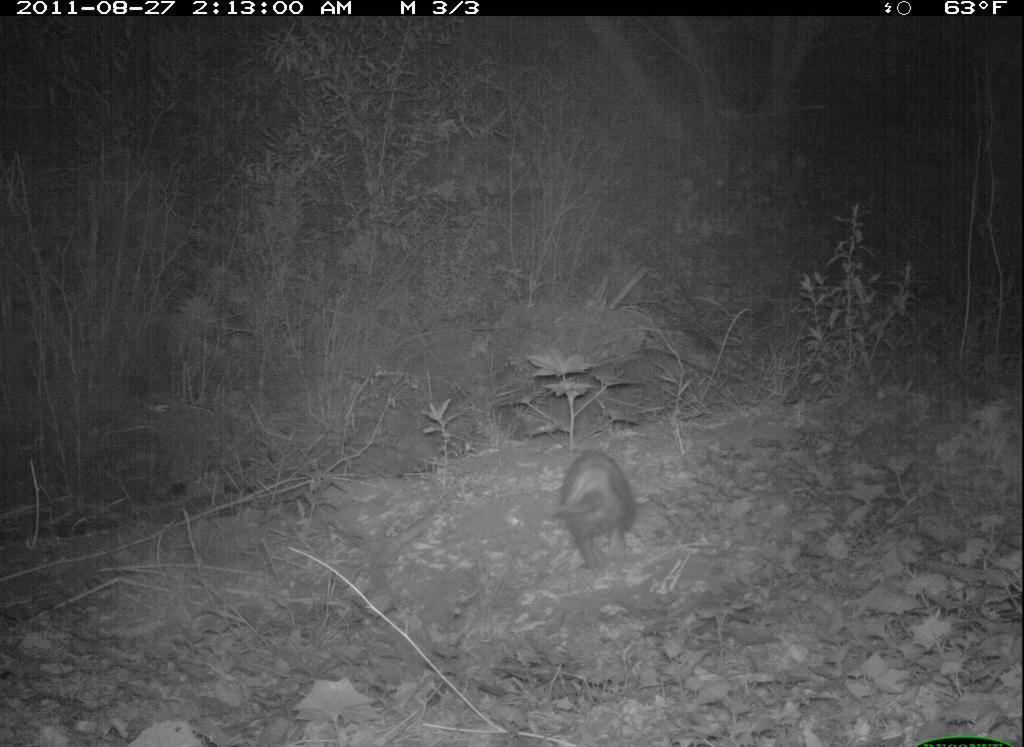opossum: (552, 450, 637, 578)
